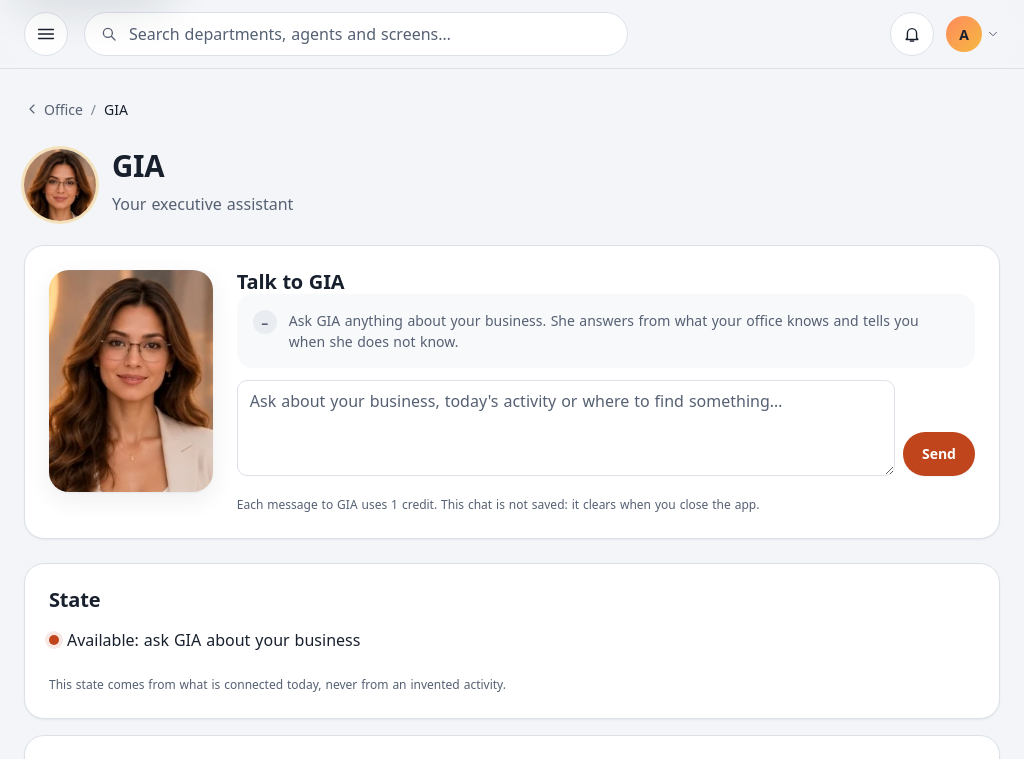
Test: GIA prepares a task for an agent (AE-3) › ignores a malformed proposal
The width and height of the screenshot is (1024, 759).
Replace the text in the text box named "Your message to GIA" with "Pídele a Lucía una propuesta de catering" at (566, 428), box [237,380,895,476]
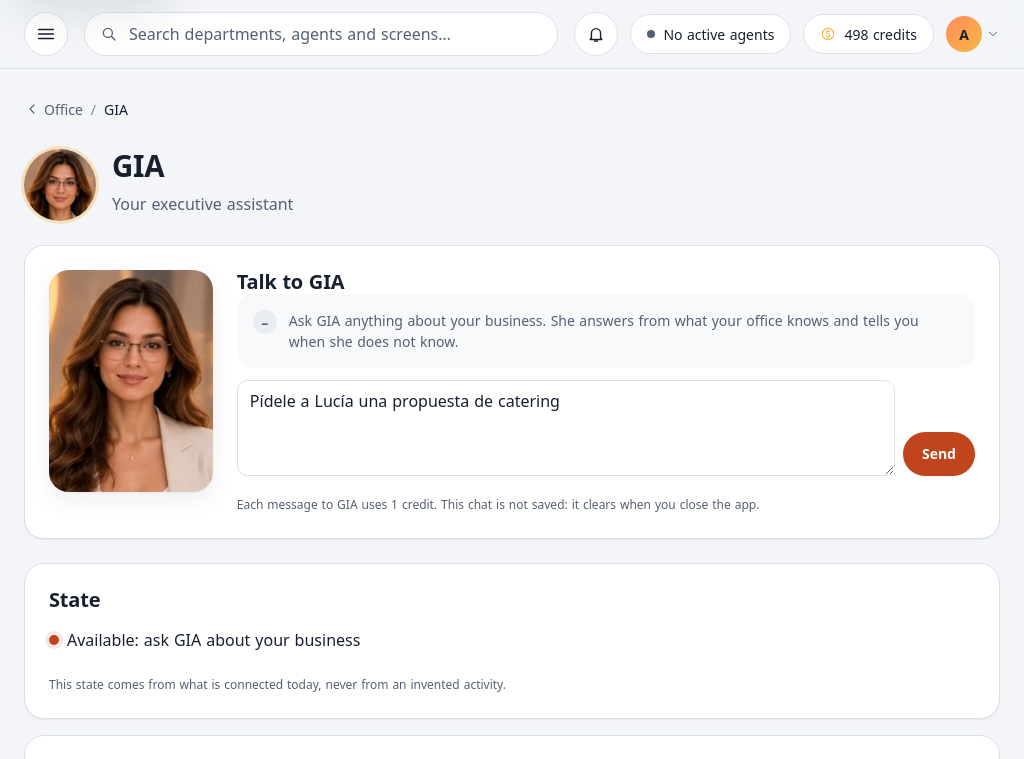
Click the button "Send".
click(939, 454)  # box [903,432,975,476]
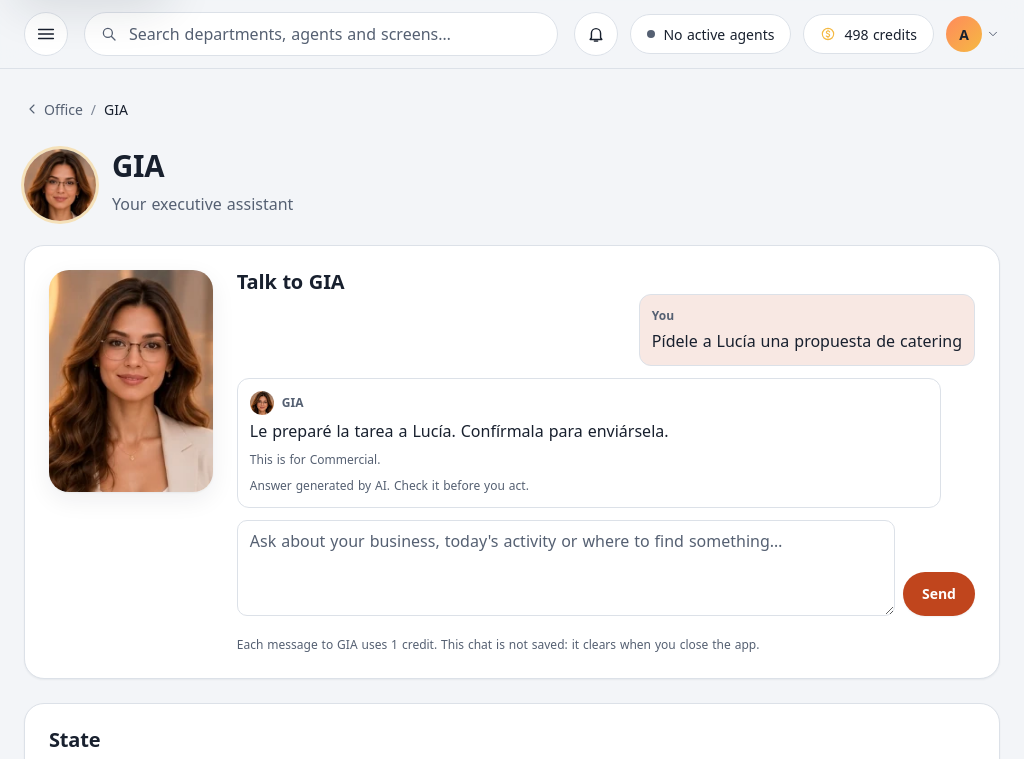
expect the text "Le preparé la tarea a Lucía. Confírmala para enviársela." is shown: met, box [250,420,668,442]
